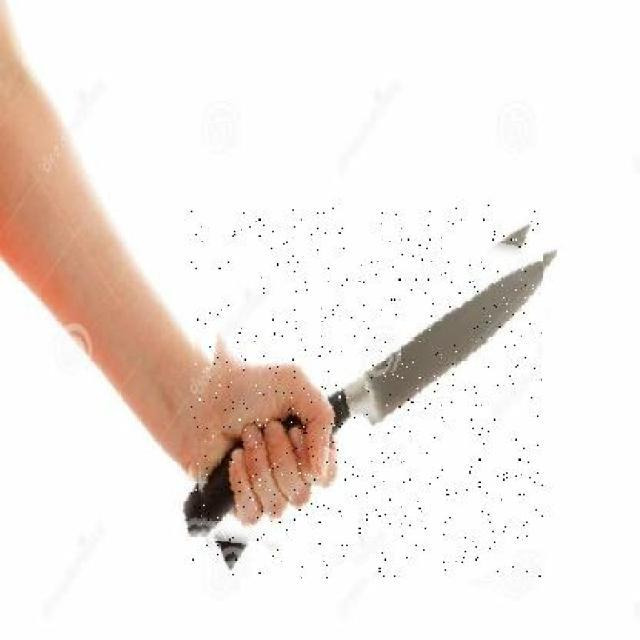knife: (191, 204, 544, 578)
